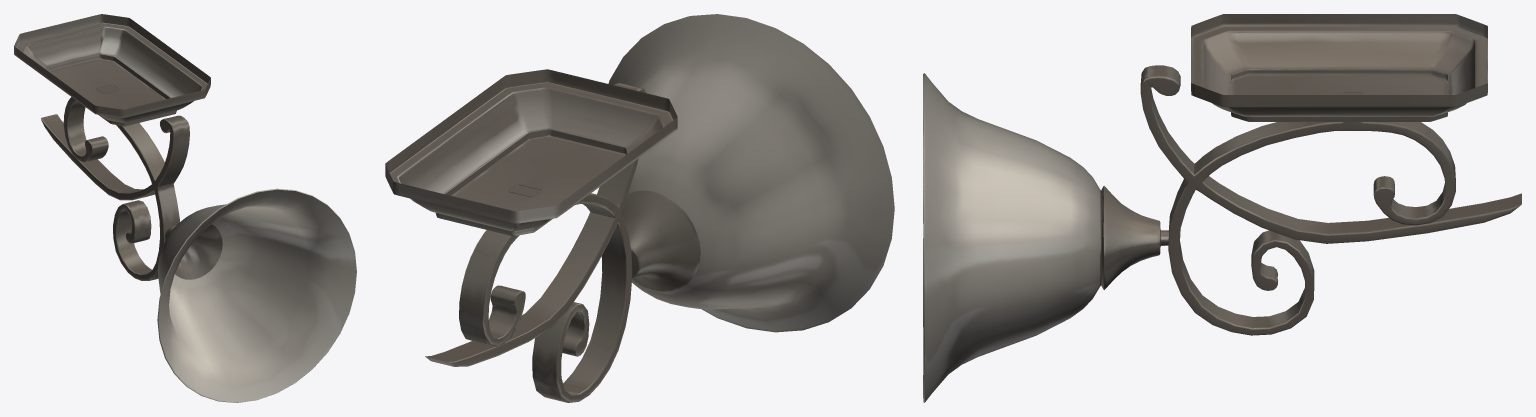
Rendered from raw_model.glb.
3 renders of one model, left to right at view 1: azimuth 30°, elevation 25°; view 2: azimuth 150°, elevation 25°; view 3: azimuth 270°, elevation 25°, orthographic. The views are drawn at different scales.
Visible parts, largest first — view 1: raw_model.050; view 2: raw_model.050; view 3: raw_model.050.
Part boxes in pixels (x1=…): raw_model.050: x1=14, y1=14, x2=356, y2=402; raw_model.050: x1=385, y1=14, x2=894, y2=402; raw_model.050: x1=923, y1=14, x2=1521, y2=402.
Bounding box in the file's own units: 0.2707 × 0.3013 × 0.4908.
1 material, 1 textured.
